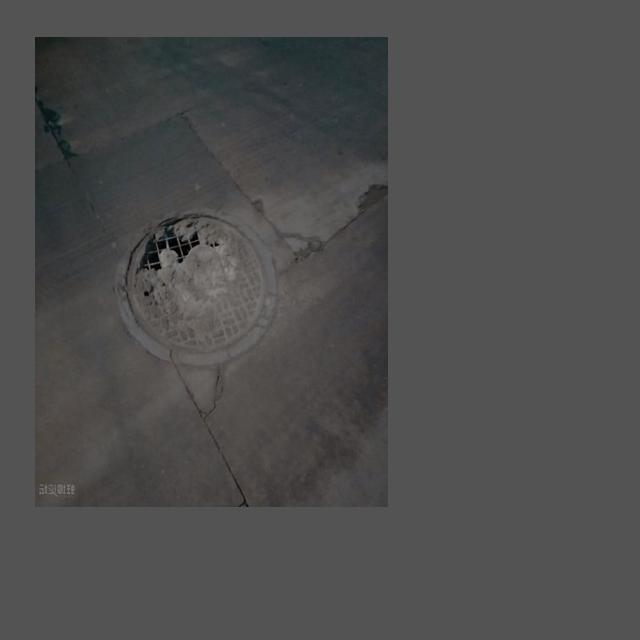broke: (113, 200, 283, 363)
